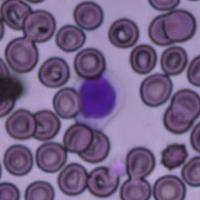L: (73, 69, 128, 128)
